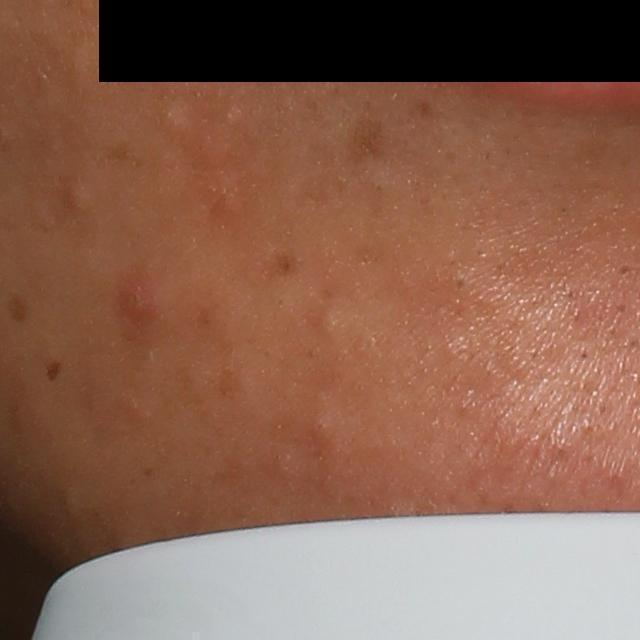comedo: (308, 304, 349, 346), (62, 183, 96, 216)
